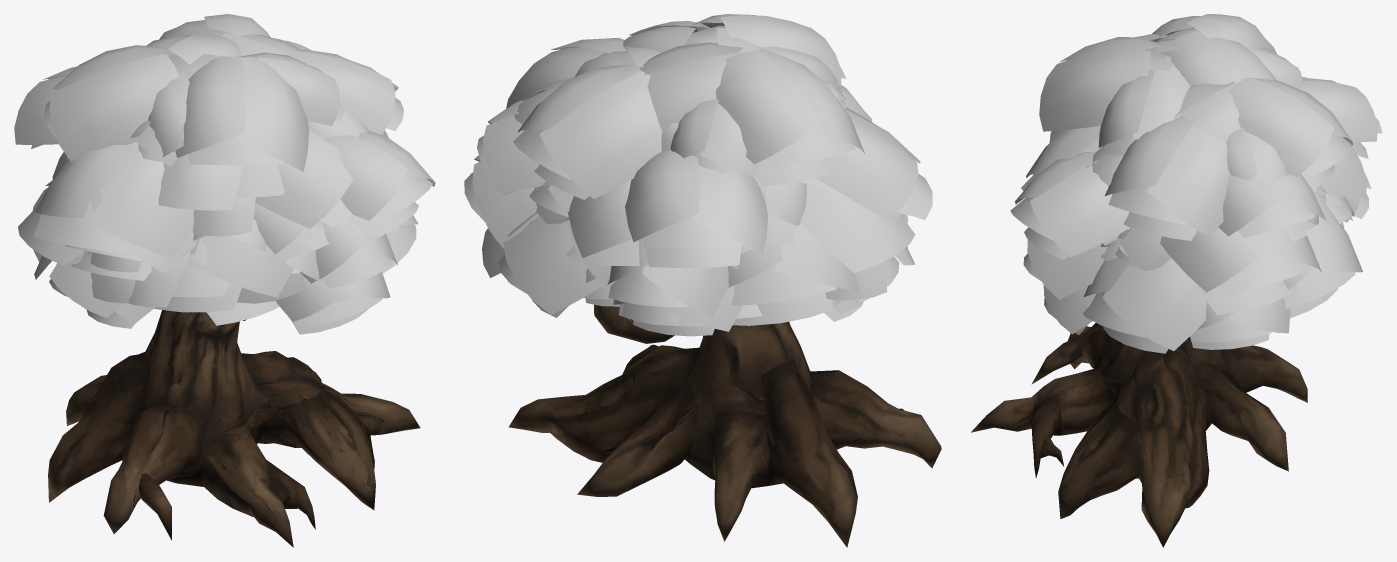
The model's file is tree1(1013).FBX.
3 views of the same model, side by side, from view 1: azimuth 30°, elevation 25°; view 2: azimuth 150°, elevation 25°; view 3: azimuth 270°, elevation 25° (orthographic). The views are drawn at different scales.
Parts seen in each view (by area): view 1: tree1_leaf(1013), tree1_tree(1013); view 2: tree1_leaf(1013), tree1_tree(1013); view 3: tree1_leaf(1013), tree1_tree(1013).
Boxes of the visible parts, x1,y1,x2,y2 form: tree1_leaf(1013): [14, 14, 435, 334]; tree1_tree(1013): [48, 310, 420, 547]; tree1_leaf(1013): [464, 14, 932, 336]; tree1_tree(1013): [509, 304, 941, 547]; tree1_leaf(1013): [1010, 14, 1382, 353]; tree1_tree(1013): [971, 323, 1307, 547].
Size of the model in its own units: 1796 by 1945 by 1703.
